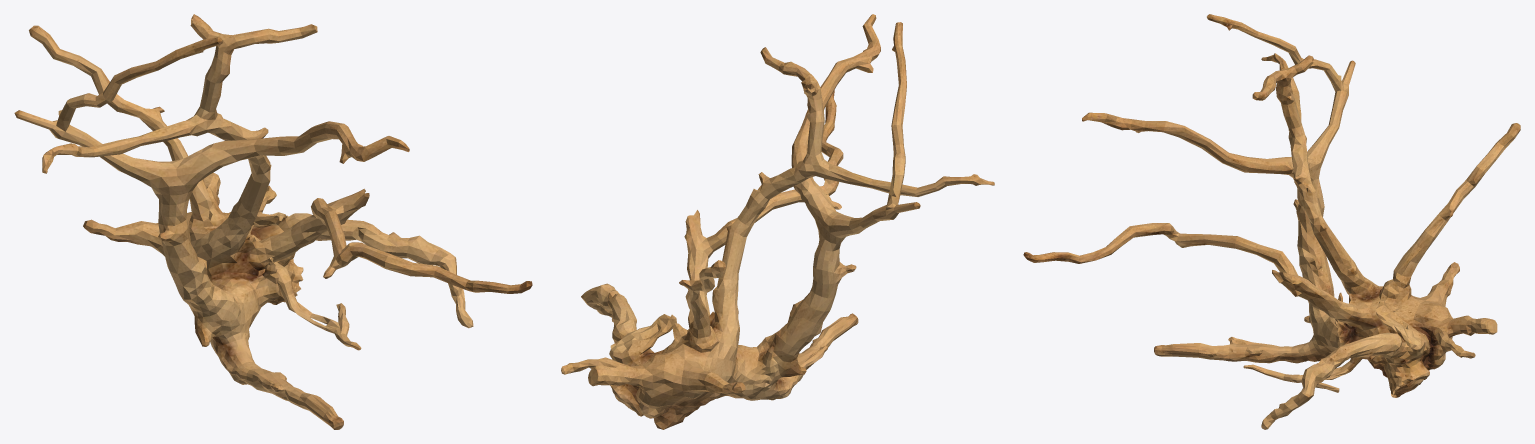
File: spiderwood-1.glb
3 views of the same model, side by side, from view 1: azimuth 30°, elevation 25°; view 2: azimuth 150°, elevation 25°; view 3: azimuth 270°, elevation 25° (orthographic). The views are drawn at different scales.
Visible parts, largest first — view 1: tripo_node_5b518ecd-5400-482e-bd18-971cd6fd5781; view 2: tripo_node_5b518ecd-5400-482e-bd18-971cd6fd5781; view 3: tripo_node_5b518ecd-5400-482e-bd18-971cd6fd5781.
Boxes of the visible parts, x1=… form: tripo_node_5b518ecd-5400-482e-bd18-971cd6fd5781: x1=14, y1=14, x2=532, y2=429; tripo_node_5b518ecd-5400-482e-bd18-971cd6fd5781: x1=561, y1=14, x2=994, y2=429; tripo_node_5b518ecd-5400-482e-bd18-971cd6fd5781: x1=1023, y1=14, x2=1520, y2=429.
Bounding box in the file's own units: 0.8082 × 0.7065 × 0.998.
Materials: 1 (1 with a texture image).
